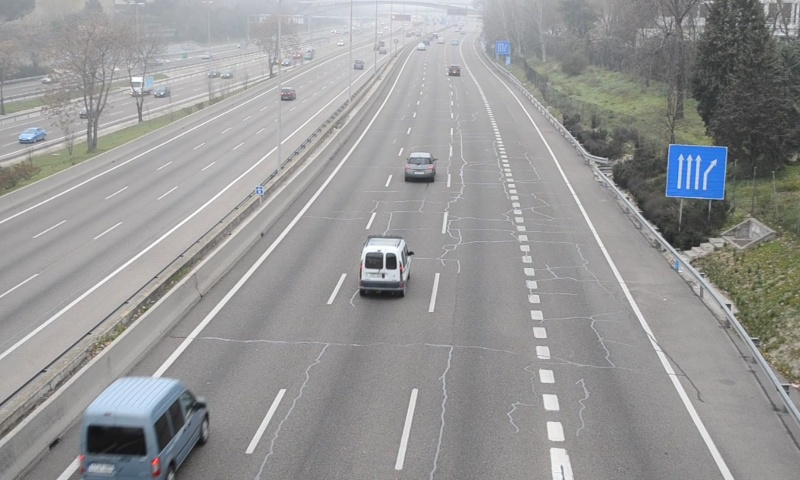car: (404, 152, 436, 180)
van: (77, 376, 210, 480), (358, 238, 410, 297)
